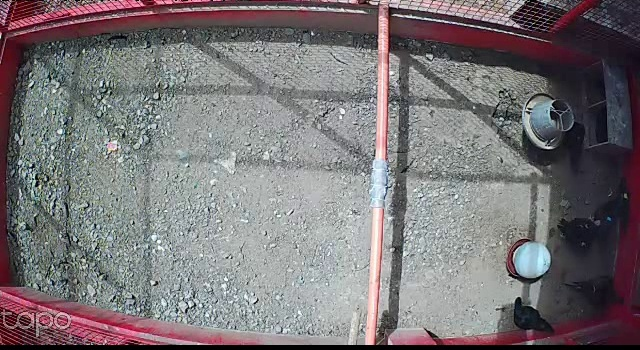Chicken: (510, 293, 558, 336), (556, 211, 605, 252)
Saddle_Color_Yellow: (624, 193, 629, 198)
